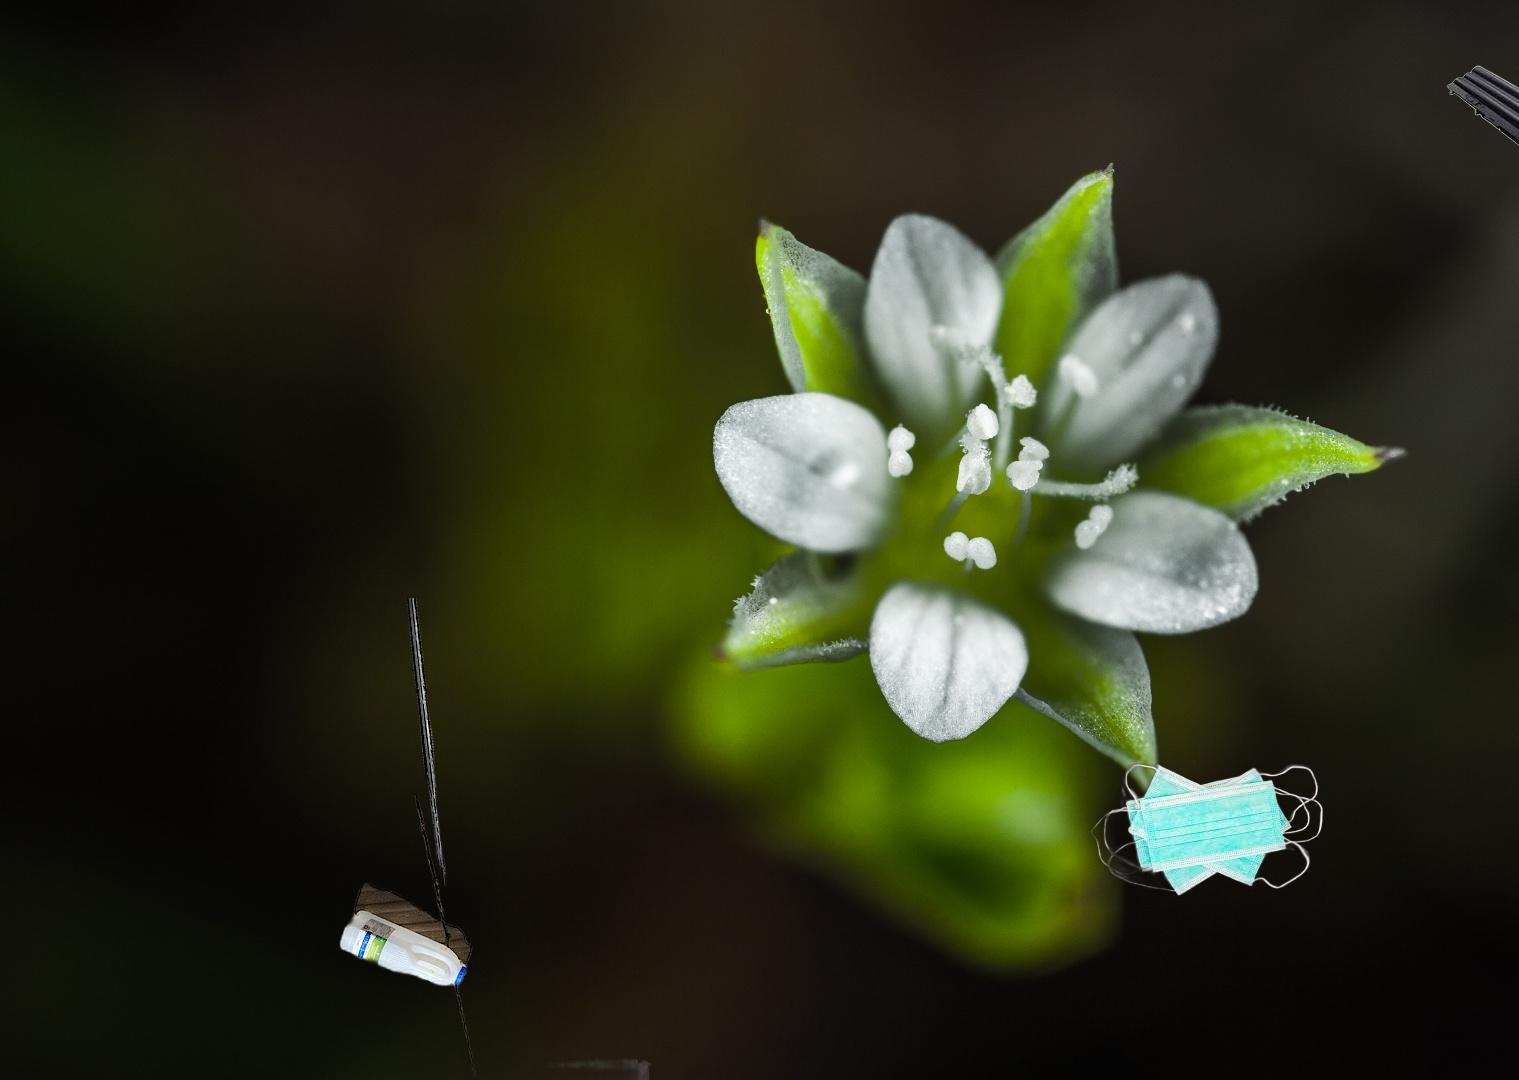battery: (1444, 63, 1519, 175)
plastic-bottles: (327, 598, 516, 1080)
trash: (1086, 761, 1329, 900), (466, 1044, 659, 1080)
